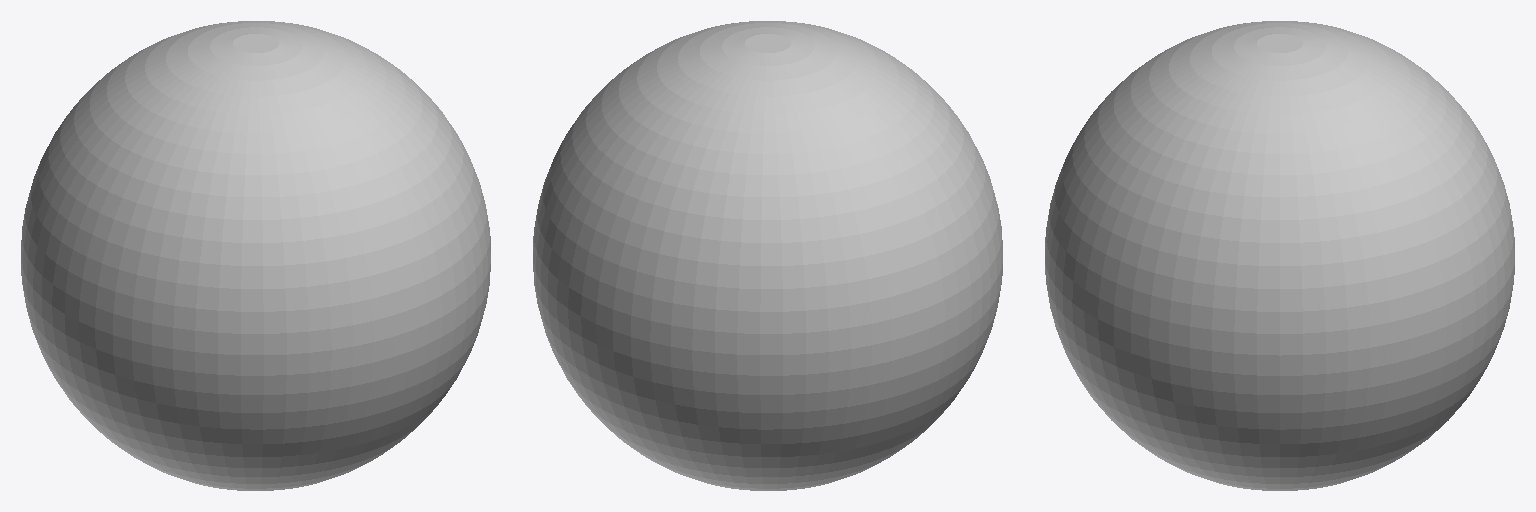
Rendered from ball11.obj.
3 views of the same model, side by side, from view 1: azimuth 30°, elevation 25°; view 2: azimuth 150°, elevation 25°; view 3: azimuth 270°, elevation 25° (orthographic).
Visible parts, largest first — view 1: planet_Sphere.001; view 2: planet_Sphere.001; view 3: planet_Sphere.001.
Boxes of the visible parts, x1,y1,x2,y2 form: planet_Sphere.001: [21, 21, 490, 490]; planet_Sphere.001: [533, 21, 1002, 490]; planet_Sphere.001: [1045, 21, 1514, 490].
Bounding box in the file's own units: 0.2214 × 0.2204 × 0.2214.